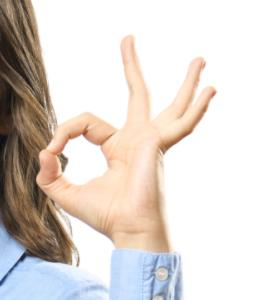left: (32, 30, 220, 240)
